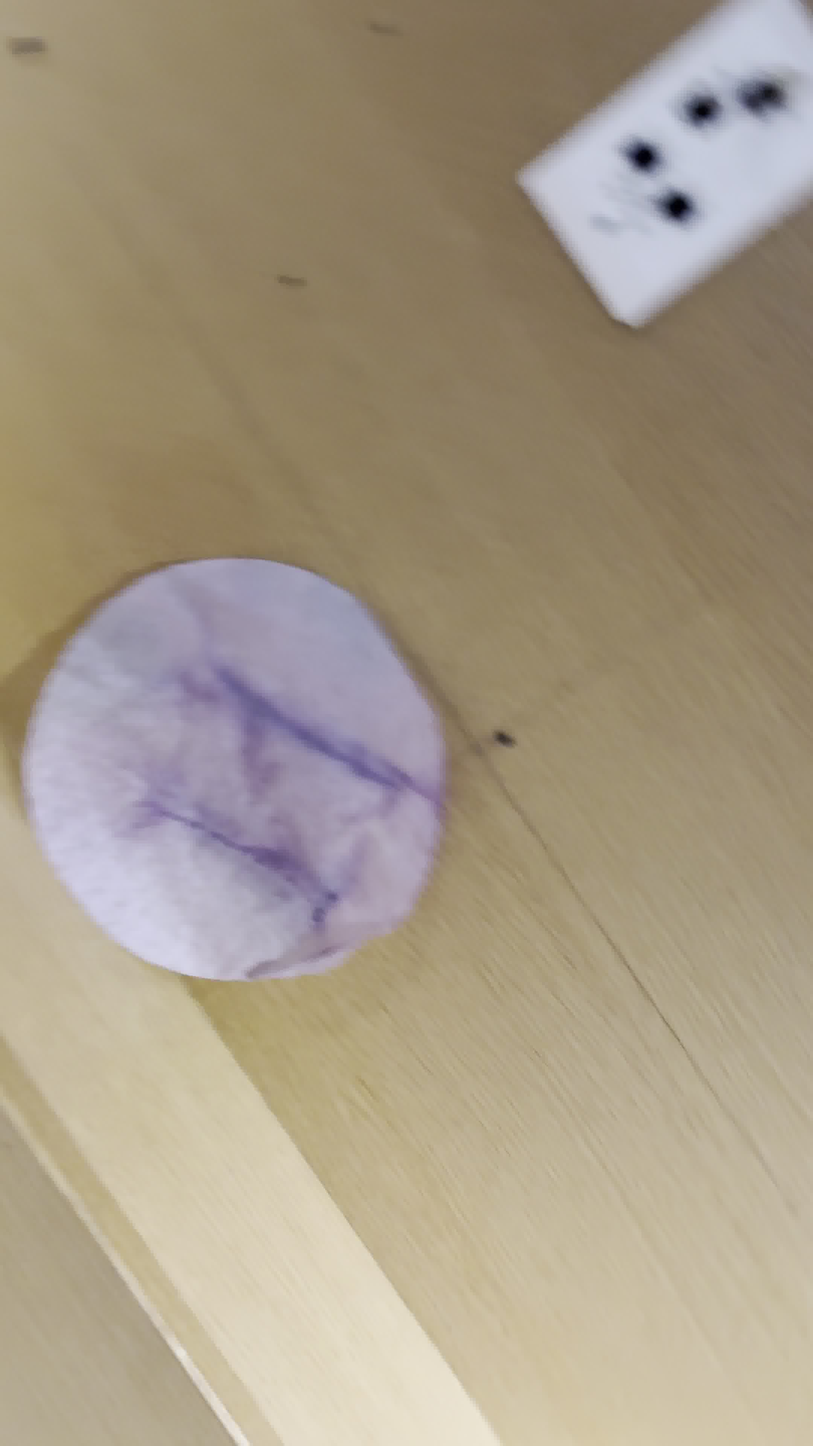Target: (23, 555, 447, 985)
